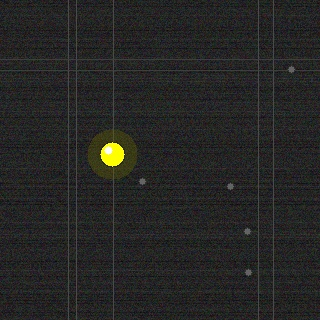yellow_warning: (98, 140, 126, 168)
